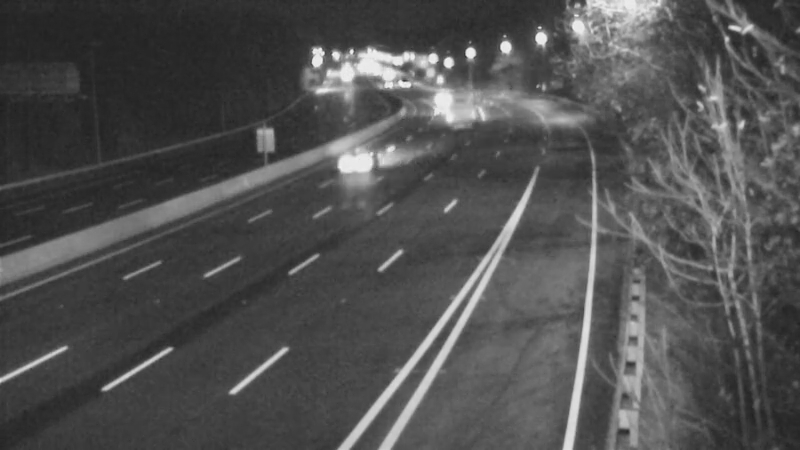vehicle: (320, 122, 400, 202), (378, 59, 428, 109), (362, 61, 412, 111), (413, 75, 463, 125), (414, 96, 464, 146), (432, 78, 482, 128)
